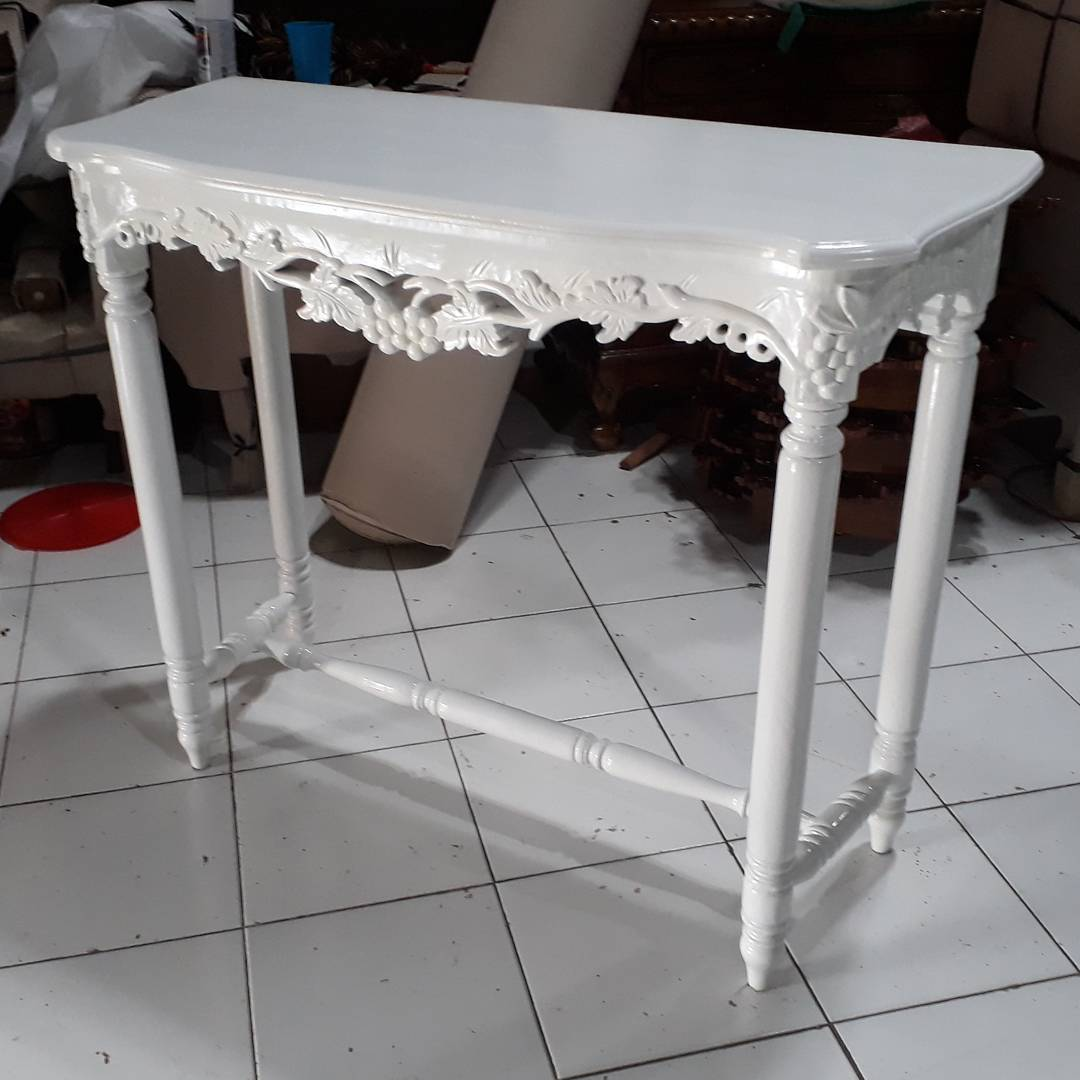Carving Table: (69, 76, 971, 964)
